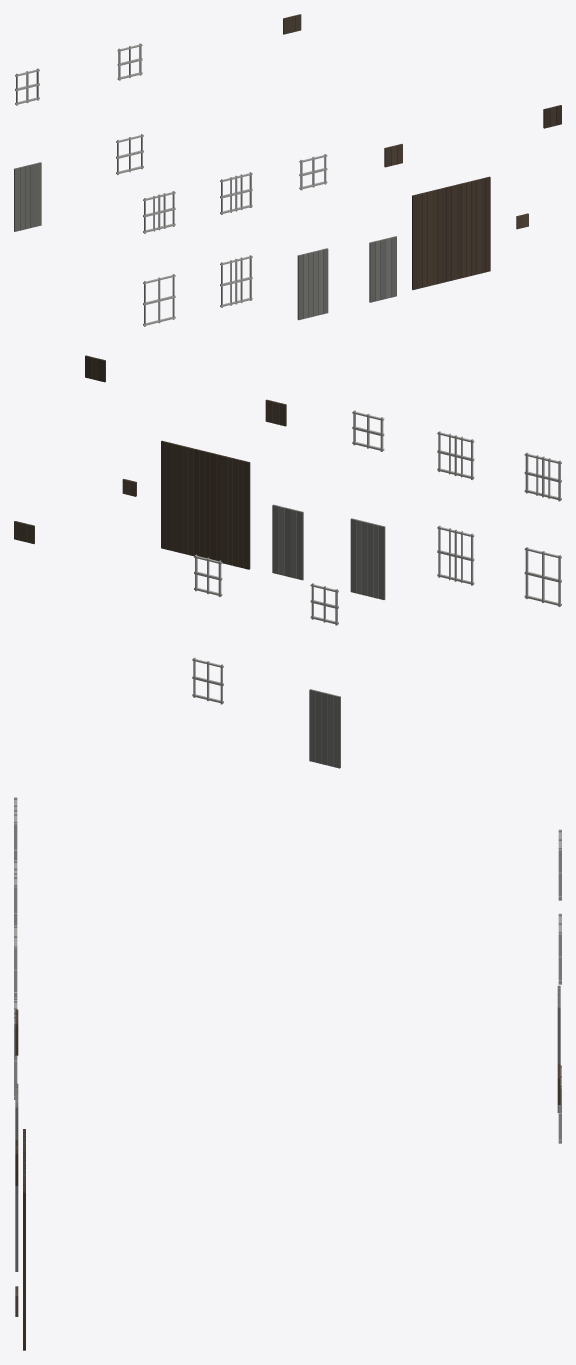
Rendered from SM_Bld_210_Wood.glb.
3 views of the same model, one above another, from view 1: azimuth 30°, elevation 25°; view 2: azimuth 150°, elevation 25°; view 3: azimuth 270°, elevation 25° (orthographic). The views are drawn at different scales.
Visible parts, largest first — view 1: SM_Bld_210_Wood; view 2: SM_Bld_210_Wood; view 3: SM_Bld_210_Wood.
Boxes of the visible parts, <box> form: SM_Bld_210_Wood: <box>14,14,561,326</box>; SM_Bld_210_Wood: <box>14,355,561,768</box>; SM_Bld_210_Wood: <box>14,797,561,1350</box>.
Size of the model in its own units: 13.96 by 5.08 by 9.43.
